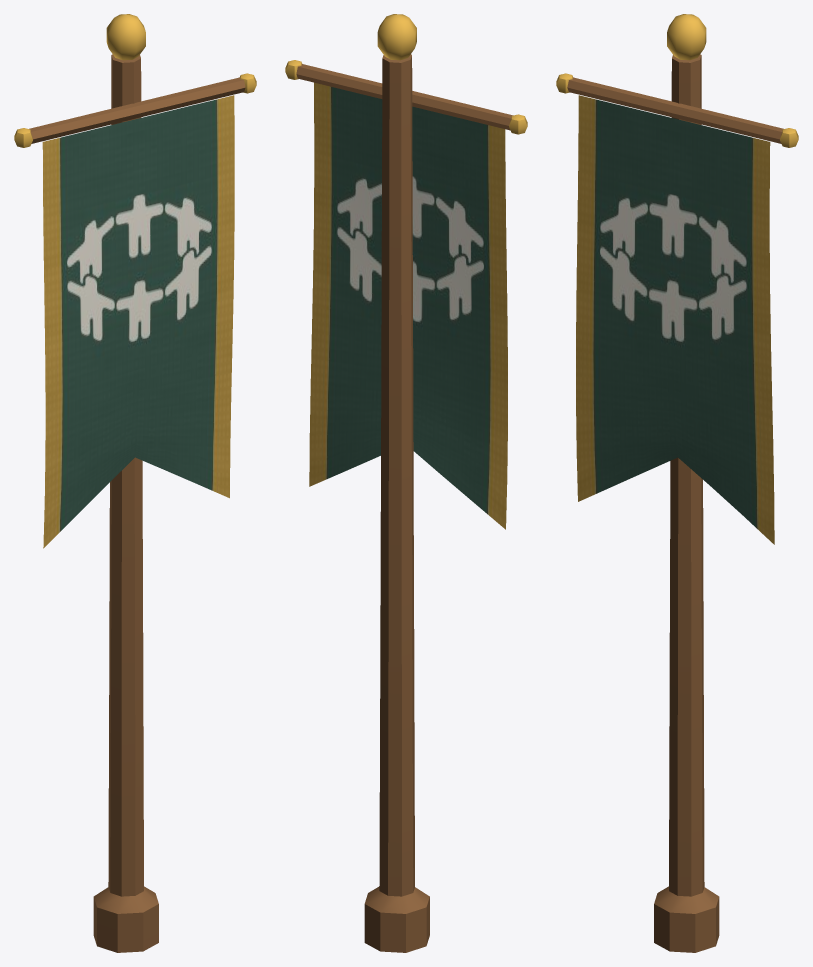
Rendered from banner-pole.glb.
The picture shows the model from 3 angles, left to right: view 1: azimuth 30°, elevation 25°; view 2: azimuth 150°, elevation 25°; view 3: azimuth 330°, elevation 25°; orthographic projection.
Visible parts, largest first — view 1: banner-pole; view 2: banner-pole; view 3: banner-pole.
Boxes of the visible parts, bbox=[...] form: banner-pole: bbox=[14, 14, 256, 952]; banner-pole: bbox=[285, 14, 527, 952]; banner-pole: bbox=[556, 14, 798, 952].
Size of the model in its own units: 0.91 by 3.32 by 0.22.
Materials: 3 (1 with a texture image).
